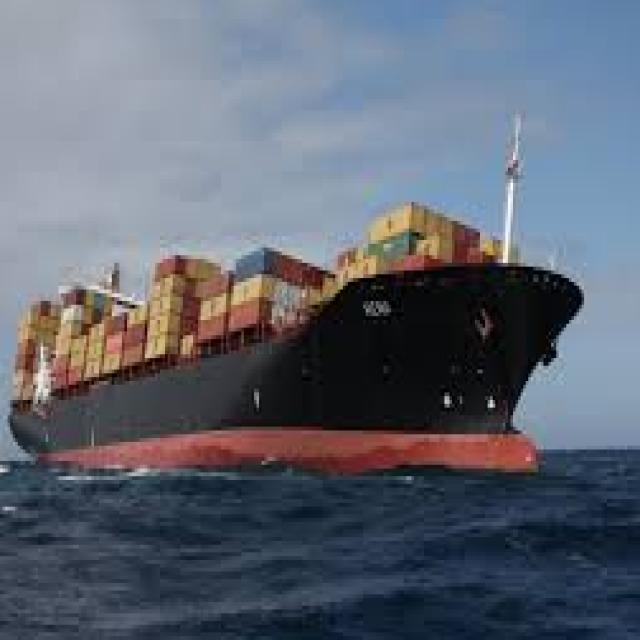cargoship: (0, 198, 582, 484)
